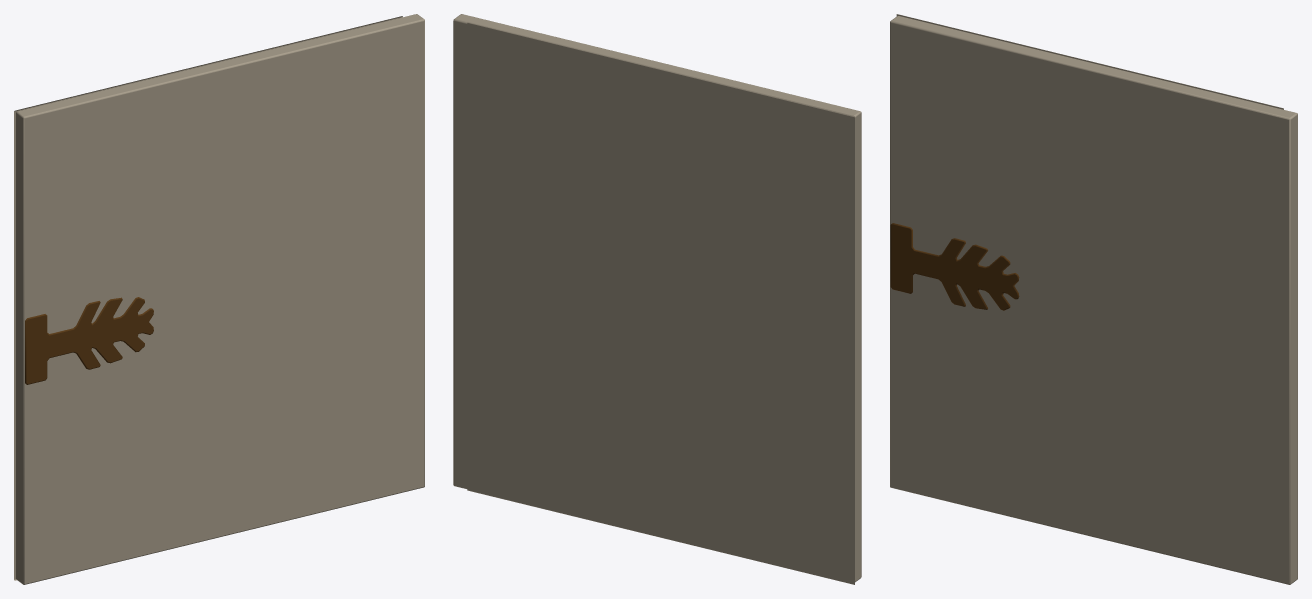
3 views of the same model, side by side, from view 1: azimuth 30°, elevation 25°; view 2: azimuth 150°, elevation 25°; view 3: azimuth 330°, elevation 25° (orthographic).
Visible parts, largest first — view 1: Part2 (×2); view 2: Part2; view 3: Part2 (×2).
Boxes of the visible parts, left/top/right/bottom form: Part2 (×2): left=14, top=14, right=424, bottom=584; Part2: left=453, top=14, right=861, bottom=584; Part2 (×2): left=890, top=14, right=1297, bottom=584.
Size of the model in its own units: 0.5914 by 0.659 by 0.0228.
